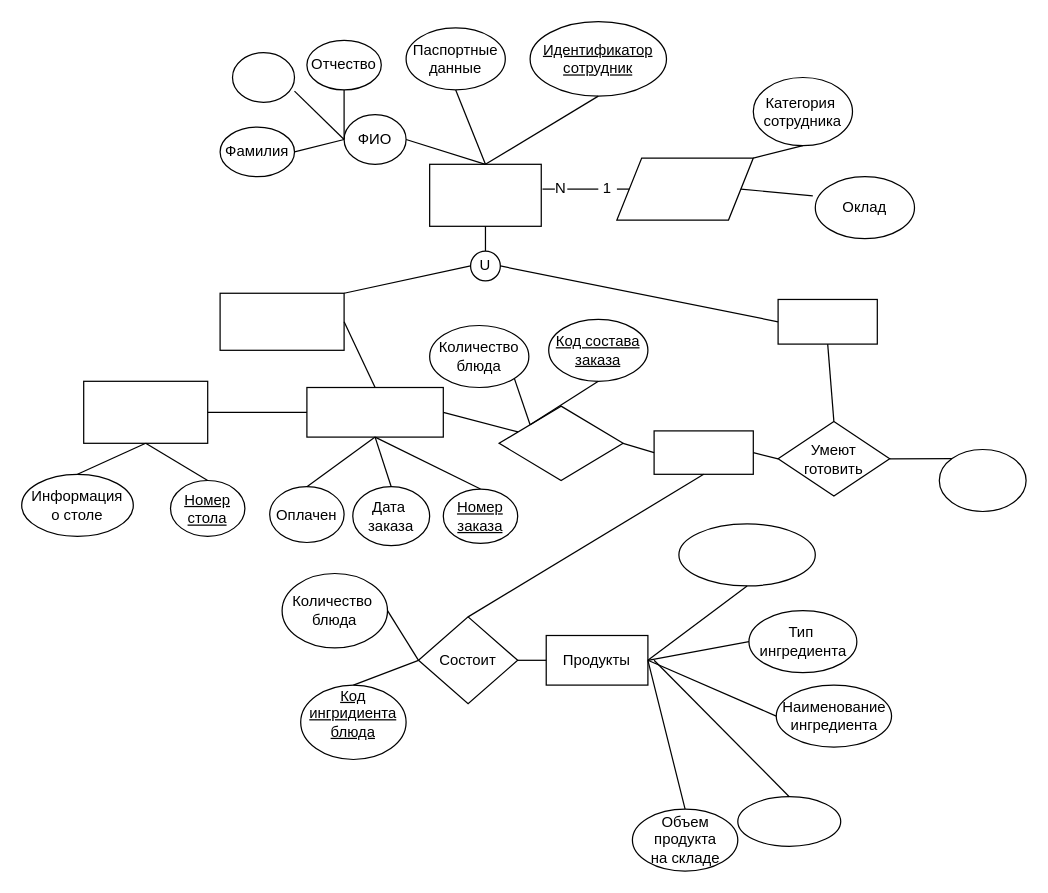
Image size: 1048x893. Some labels were removed from this diagram. The centre of each missing label's shape, as x and y in pixels:
Блюда: [703,452]
Должность: [684,188]
Заказы: [374,411]
Имя: [262,76]
Код набора повара: [982,480]
Код продукта: [789,820]
Необходимый запас продукта: [746,554]
Официанты: [281,321]
Повара: [827,321]
Состав заказа: [560,442]
Сотрудники: [484,194]
Стол: [145,411]
